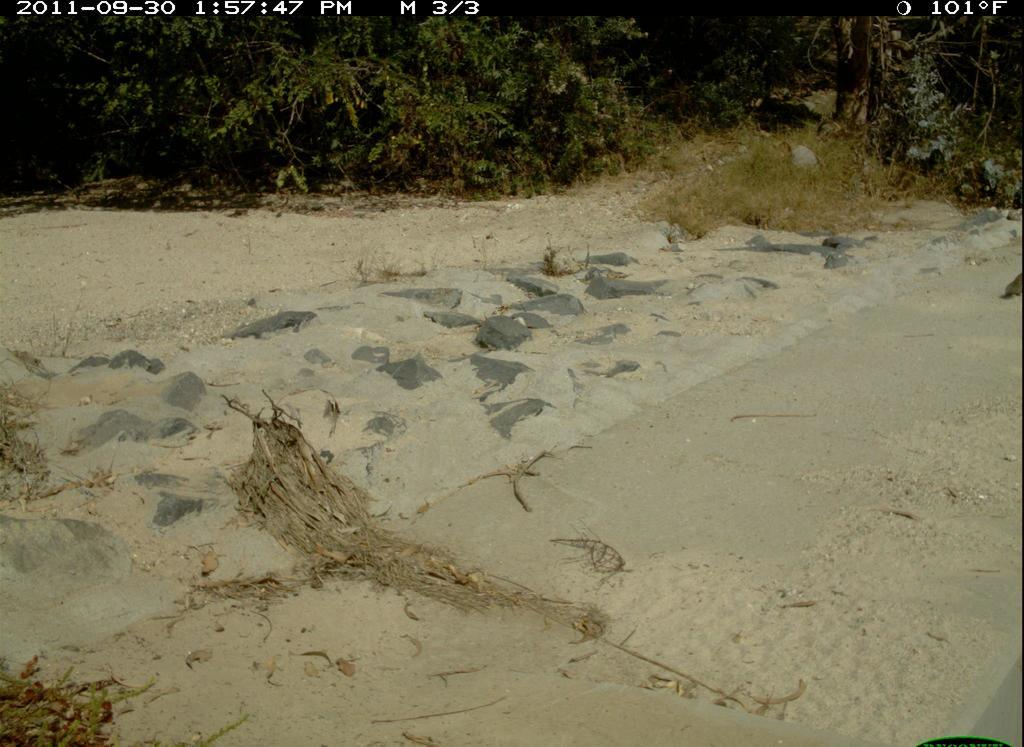squirrel: (998, 259, 1023, 301)
